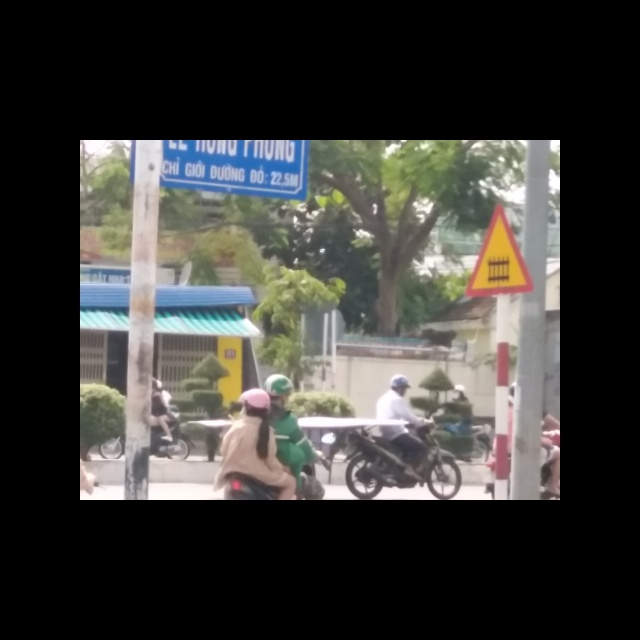Giao nhau với đường sắt có rào chắn: (465, 198, 531, 296)
